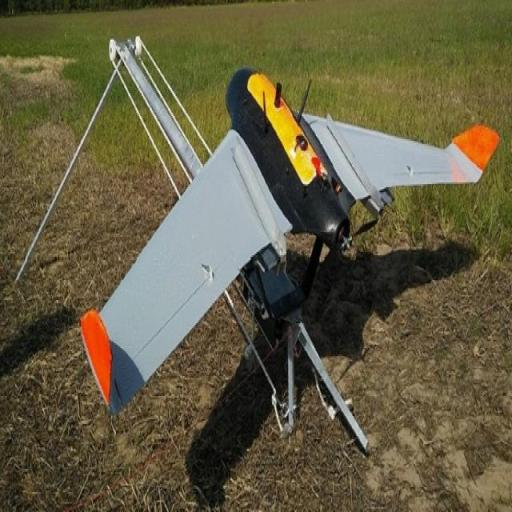uav: (73, 60, 503, 412)
